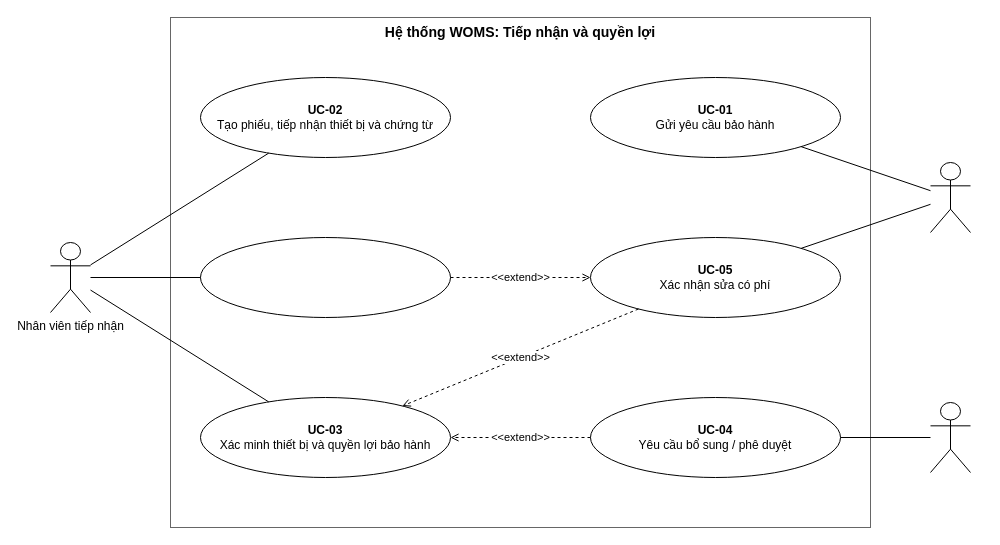
The diagram is 1000 pixels wide and 545 high, and some of its shapes have lost their labels. Here are the shapes that lost their labels. From the top down, the box of each, then its label:
(930, 162, 970, 232): Khách hàng
(200, 236, 450, 318): UC-06 Trả thiết bị và đóng yêu cầu
(930, 402, 970, 472): Quản lý
